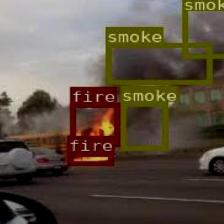fire: (69, 103, 119, 145), (67, 151, 112, 164)
smoke: (106, 42, 210, 84), (181, 0, 224, 57), (119, 101, 167, 149)
